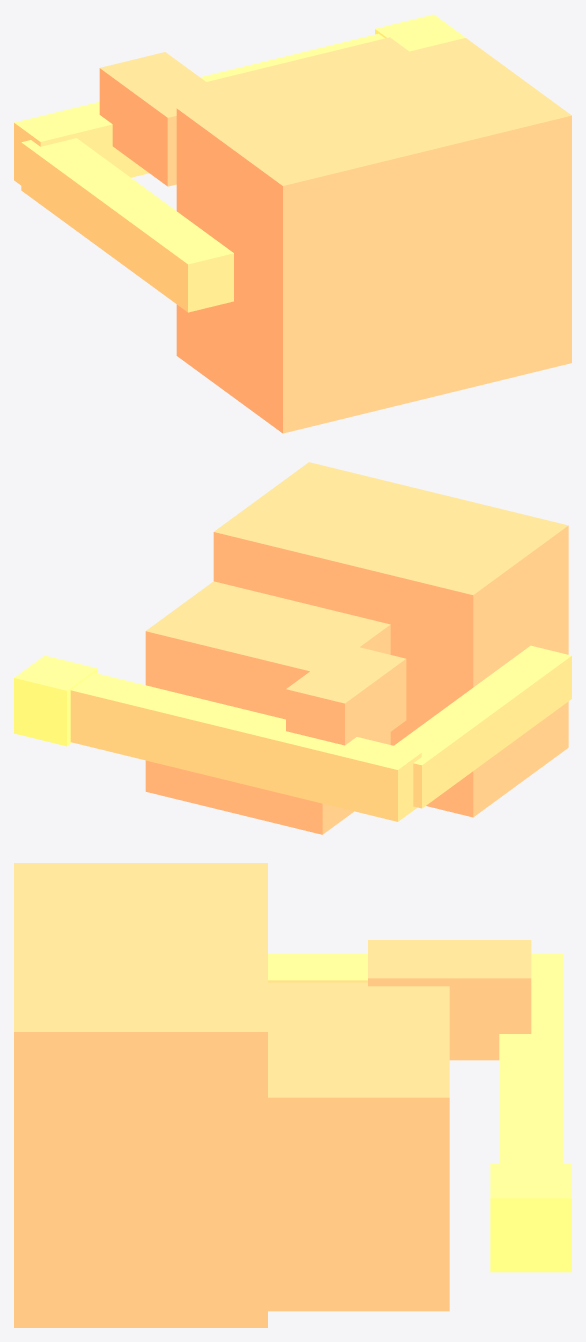
The model's file is interact_hazard_canyon.glb.
The picture shows the model from 3 angles, top to bottom: view 1: azimuth 30°, elevation 25°; view 2: azimuth 150°, elevation 25°; view 3: azimuth 270°, elevation 25°; orthographic projection. The views are drawn at different scales.
Visible parts, largest first — view 1: interact_hazard_canyon; view 2: interact_hazard_canyon; view 3: interact_hazard_canyon.
Part boxes in pixels (x1,y1,x2,y2): interact_hazard_canyon: (14, 14, 571, 433); interact_hazard_canyon: (14, 462, 571, 834); interact_hazard_canyon: (14, 863, 571, 1327).
Size of the model in its own units: 3.3 by 1.8 by 3.07.
